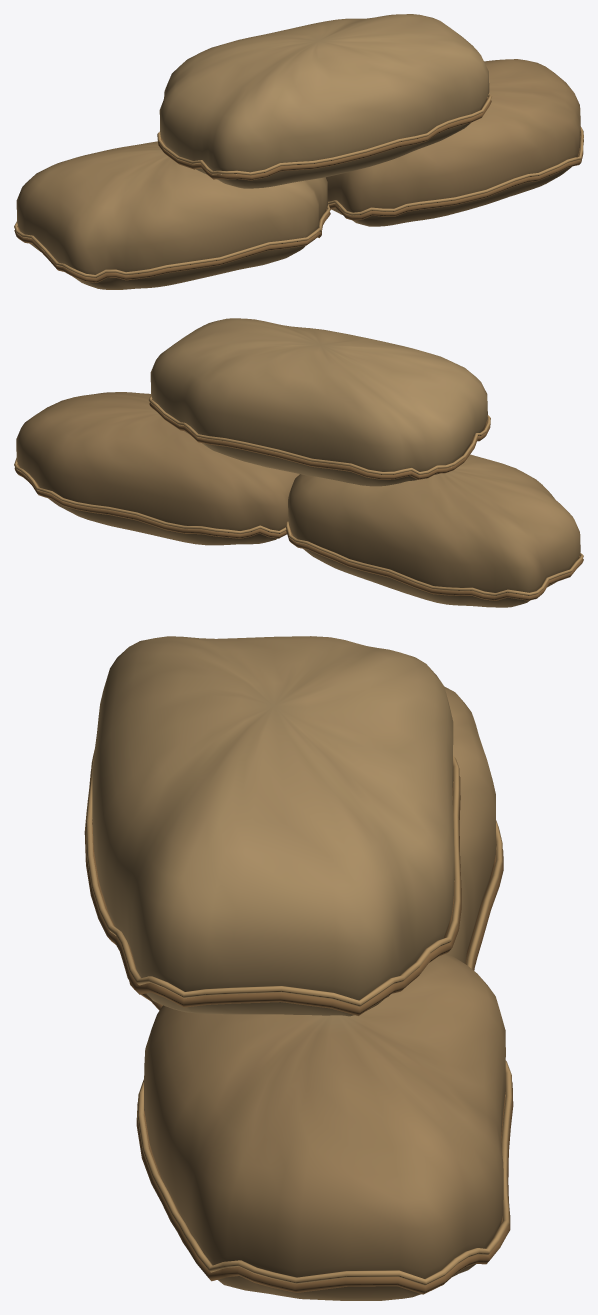
Rendered from wsc-prop-026-sandbag-stack.glb.
3 renders of one model, top to bottom at view 1: azimuth 30°, elevation 25°; view 2: azimuth 150°, elevation 25°; view 3: azimuth 270°, elevation 25°, orthographic. The views are drawn at different scales.
Parts seen in each view (by area): view 1: Weathered golden khaki canvas, Double-fold ochre seam, Raised canvas lip; view 2: Weathered golden khaki canvas, Double-fold ochre seam, Raised canvas lip; view 3: Weathered golden khaki canvas, Raised canvas lip, Double-fold ochre seam.
Boxes of the visible parts, x1,y1,x2,y2 form: Weathered golden khaki canvas: (16,14,580,289); Double-fold ochre seam: (14,97,583,282); Raised canvas lip: (14,94,583,277); Weathered golden khaki canvas: (16,318,580,607); Double-fold ochre seam: (14,399,583,600); Raised canvas lip: (14,395,583,596); Weathered golden khaki canvas: (92,636,505,1300); Raised canvas lip: (85,750,512,1285); Double-fold ochre seam: (84,771,513,1294).
Bounding box in the file's own units: 1.63 × 0.587 × 0.5722.
